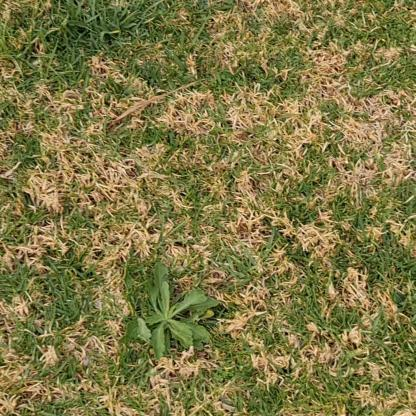Weeds: (118, 263, 222, 367)
